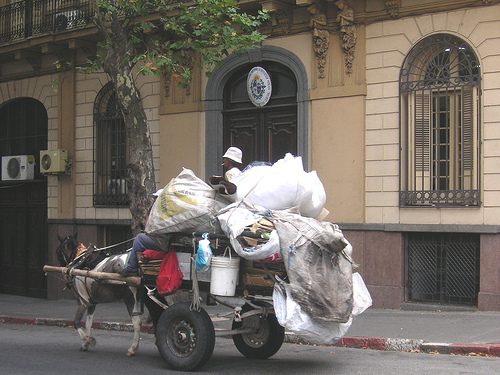horse: (53, 231, 166, 358)
